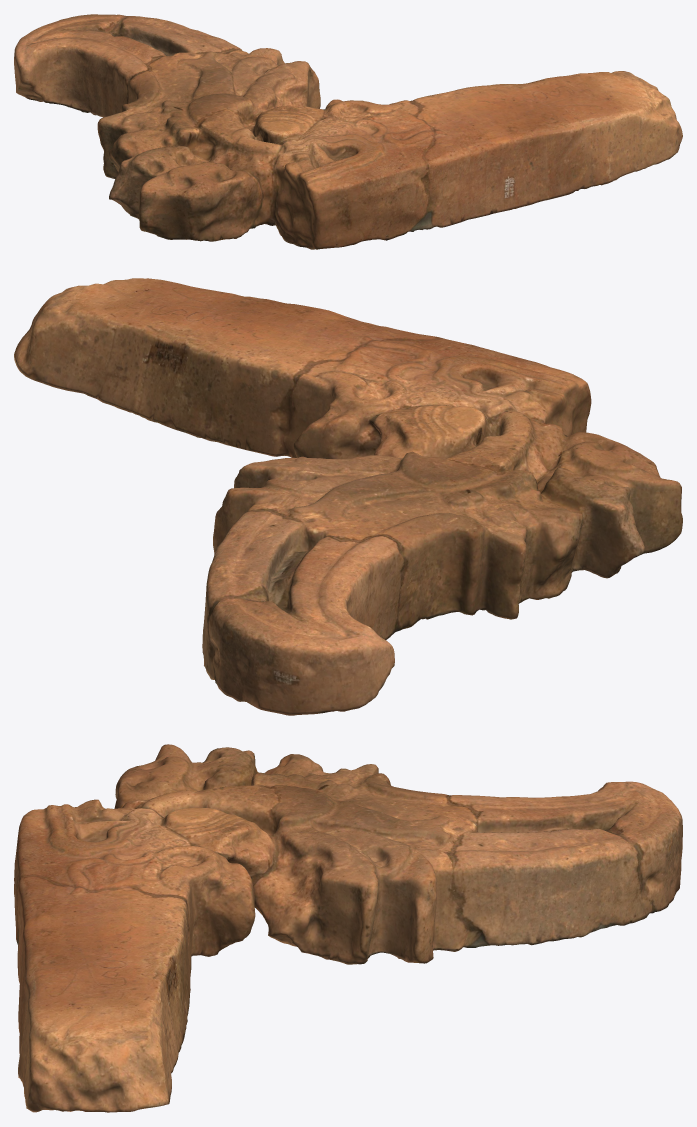
File: MysonMuseum_makara_final.glb
The picture shows the model from 3 angles, top to bottom: view 1: azimuth 30°, elevation 25°; view 2: azimuth 150°, elevation 25°; view 3: azimuth 270°, elevation 25°; orthographic projection. The views are drawn at different scales.
Bounding box in the file's own units: 0.649 × 0.0963 × 0.5647.
1 material, 1 textured.
